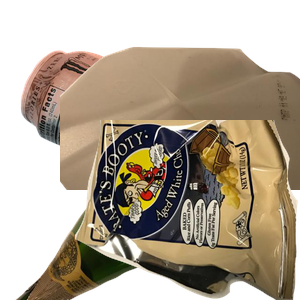glass: (13, 120, 253, 300)
metal: (18, 48, 258, 228)
plastic: (60, 44, 300, 224)
trash: (75, 120, 300, 300)
